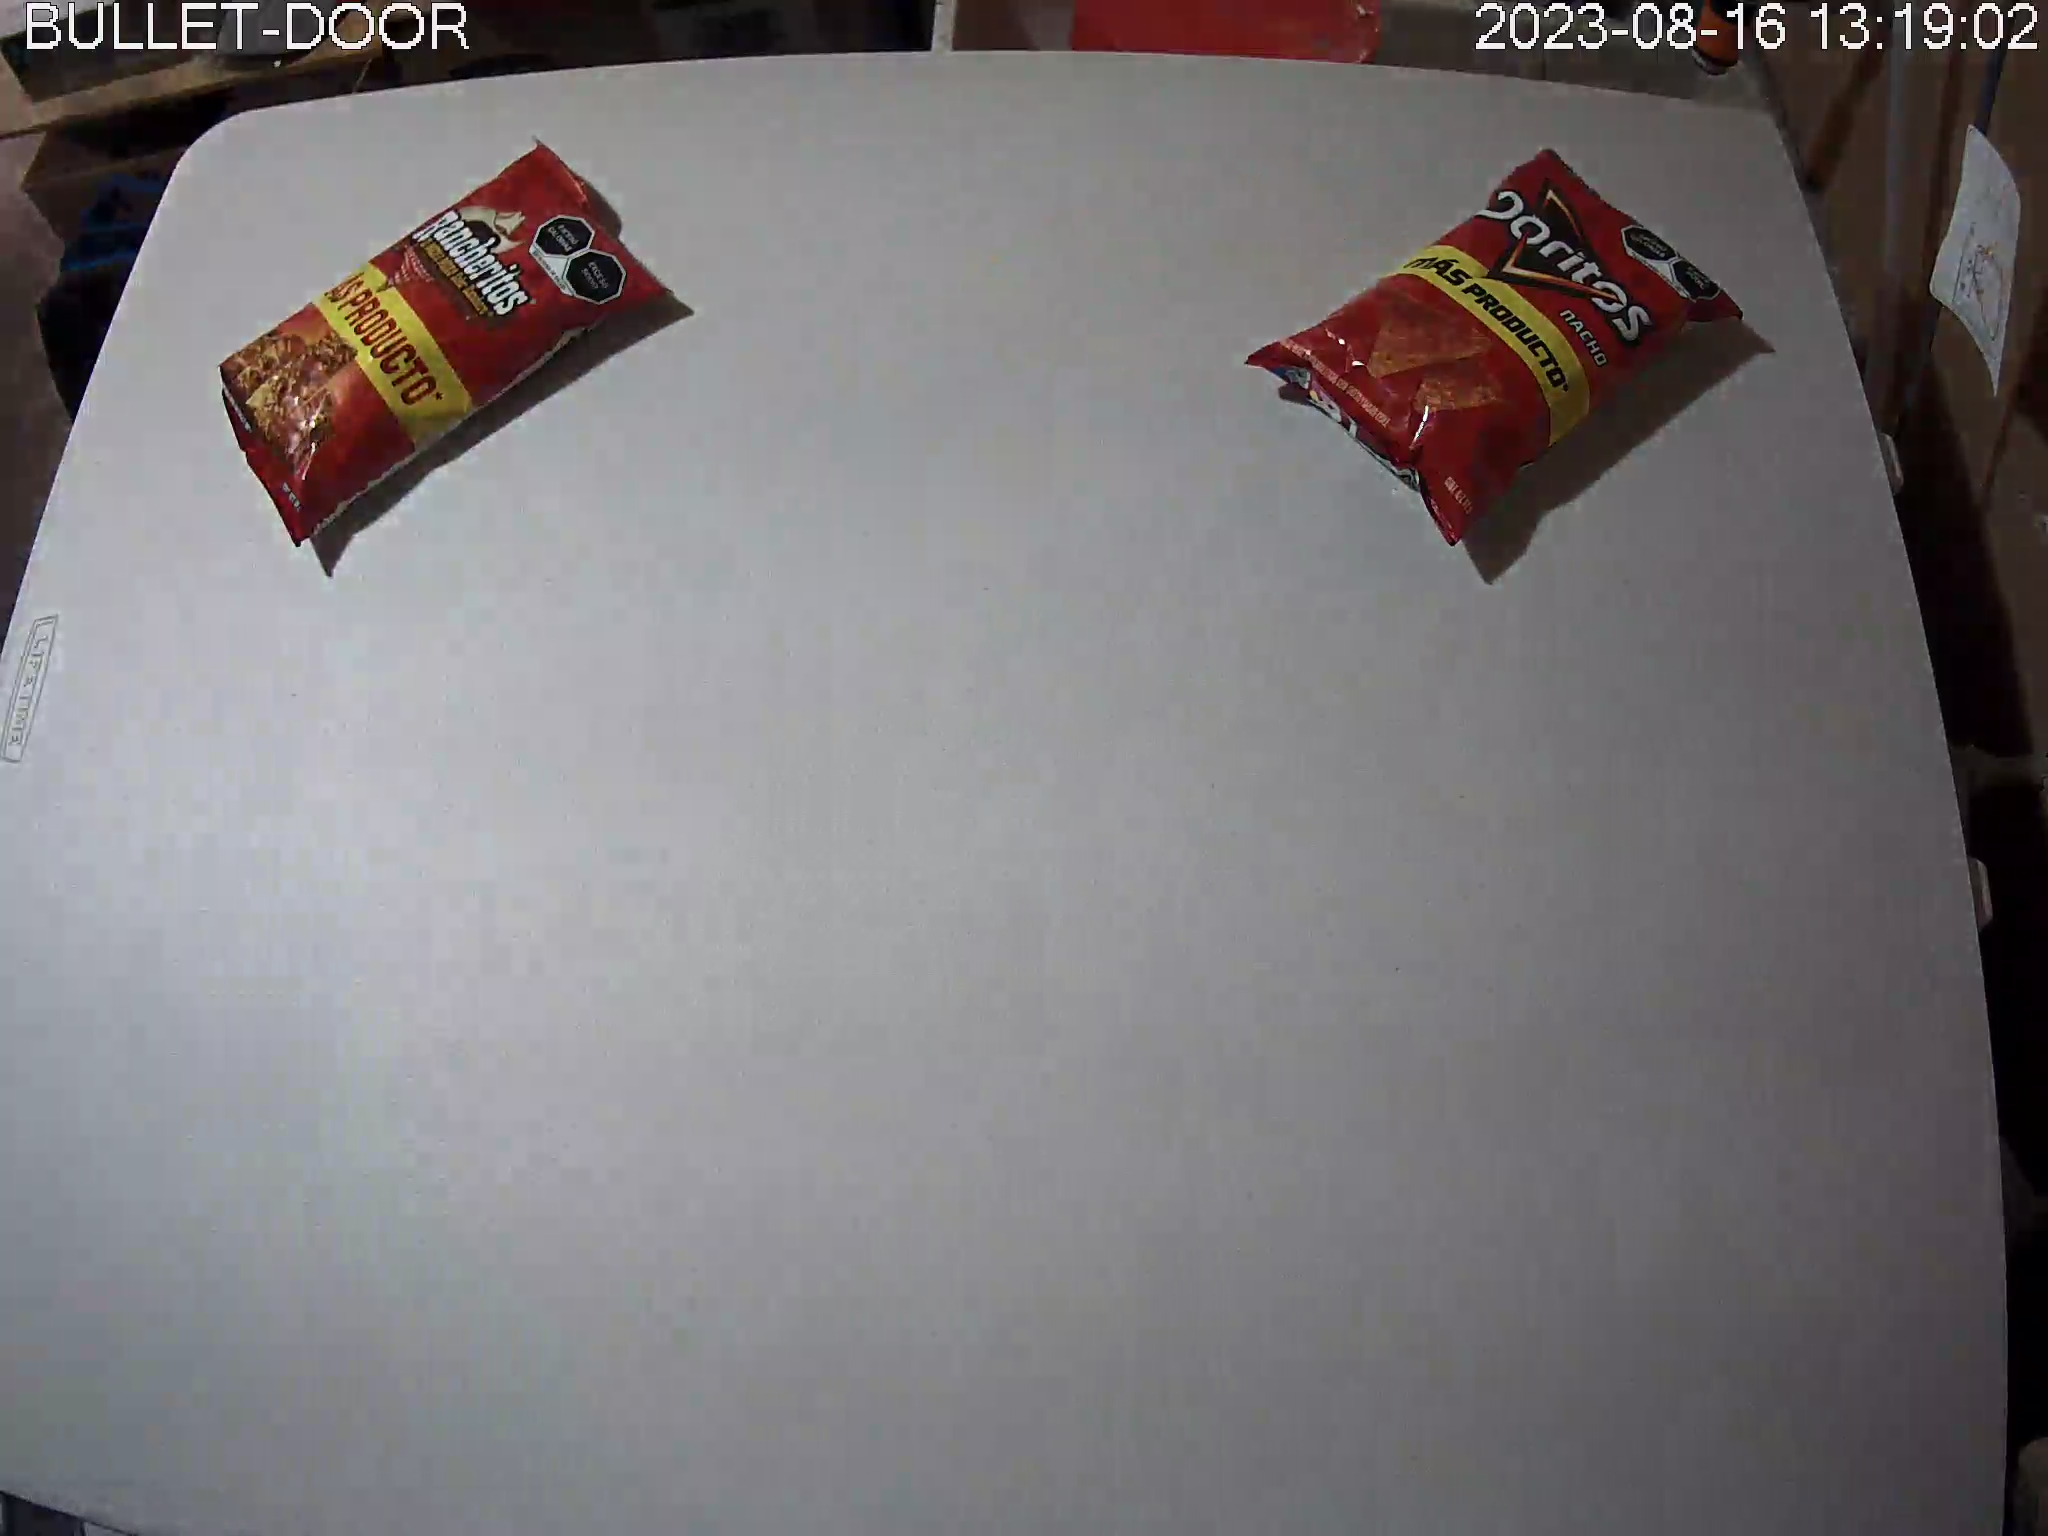DoritosN_61_F: (1243, 148, 1742, 552)
Rancheritos_58_F: (214, 131, 672, 547)
